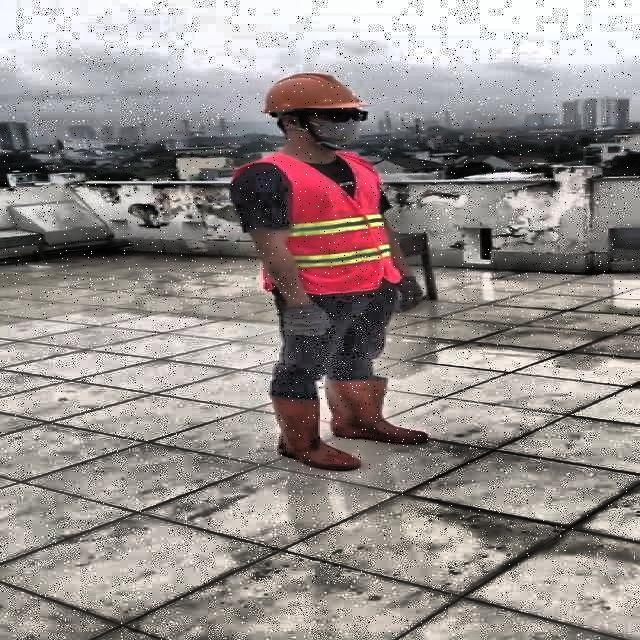safety_helmet: (254, 72, 370, 115)
safety_jacket: (232, 149, 396, 294)
